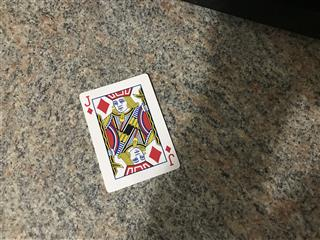JackOfDiamonds: (77, 72, 181, 193)
